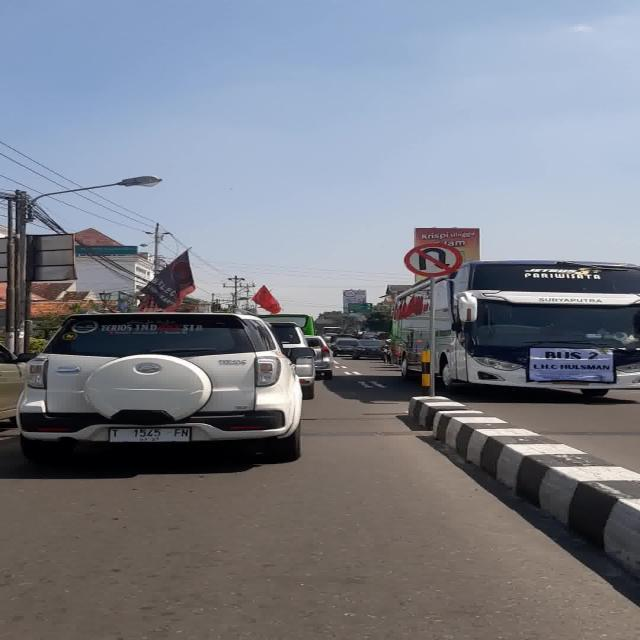Dilarang Putar Balik: (403, 244, 462, 277)
